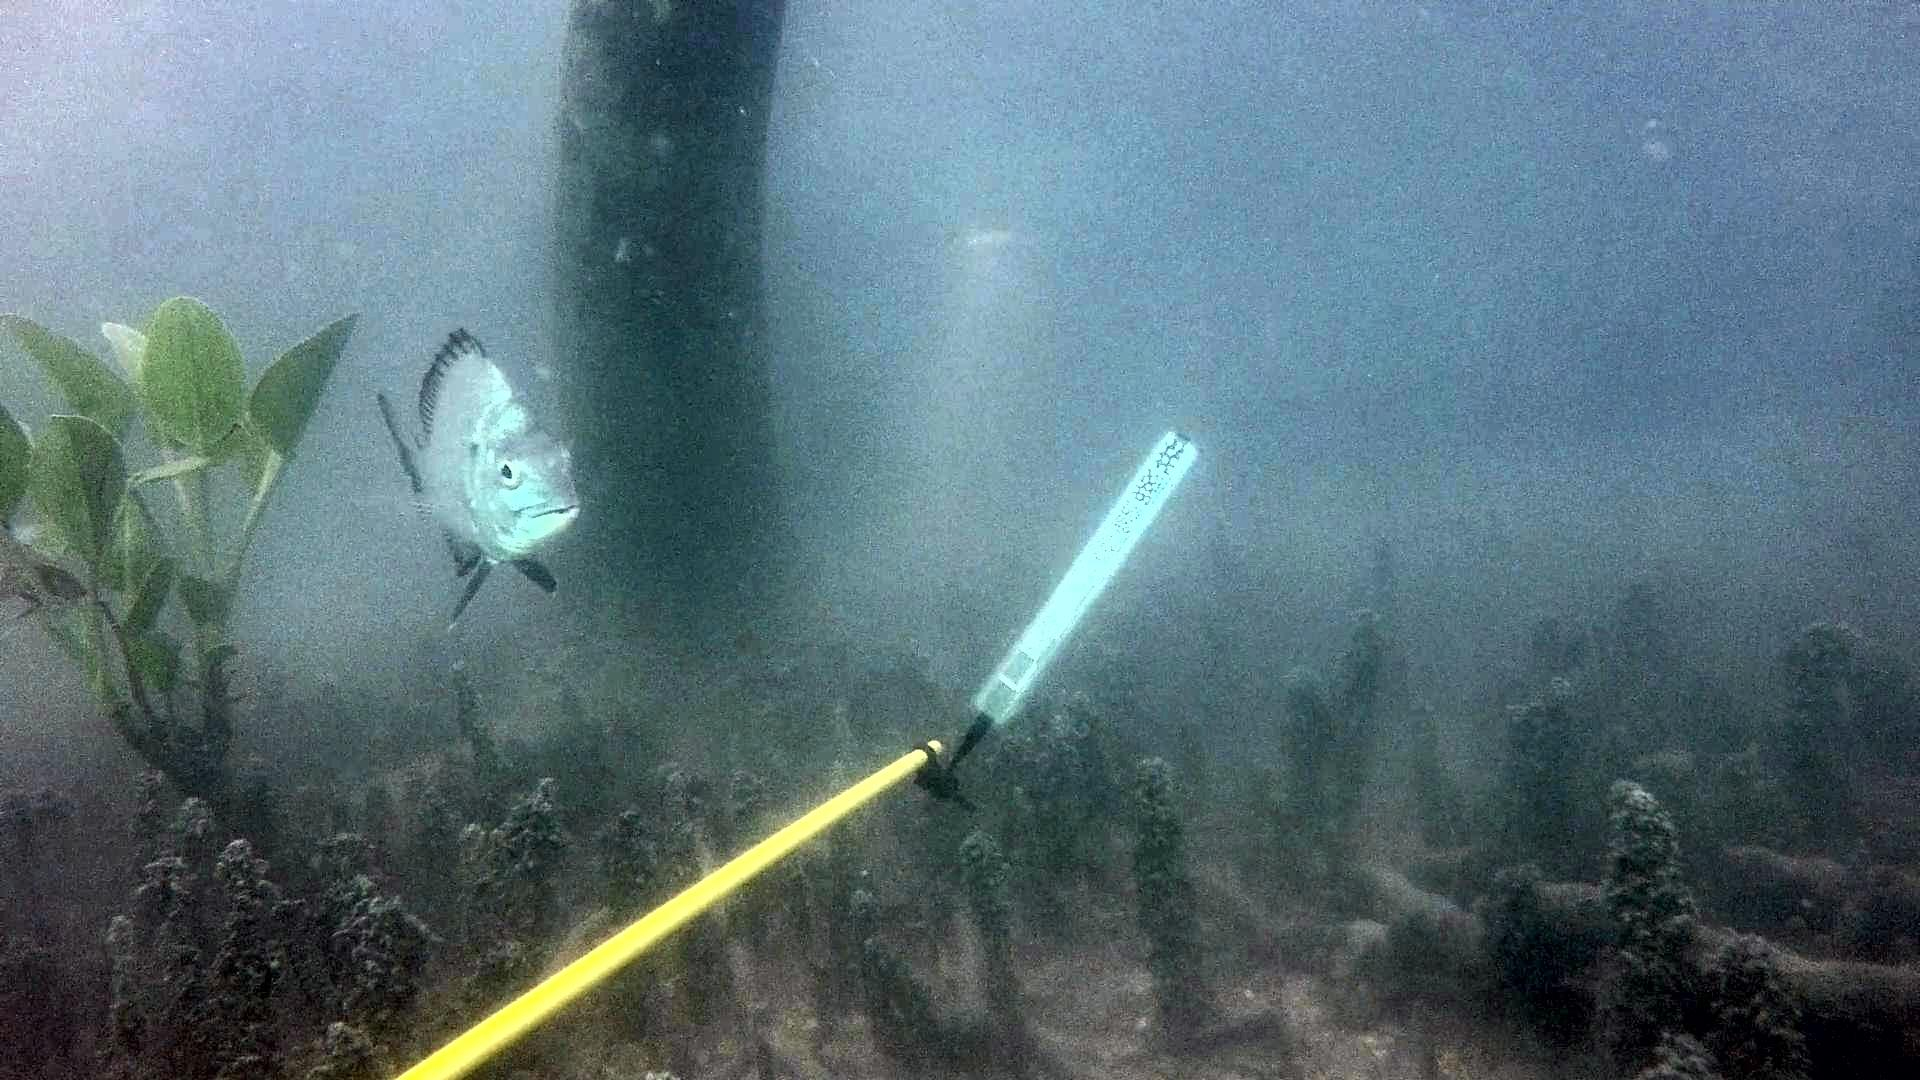acanthopagrus palmaris: (361, 315, 592, 637)
